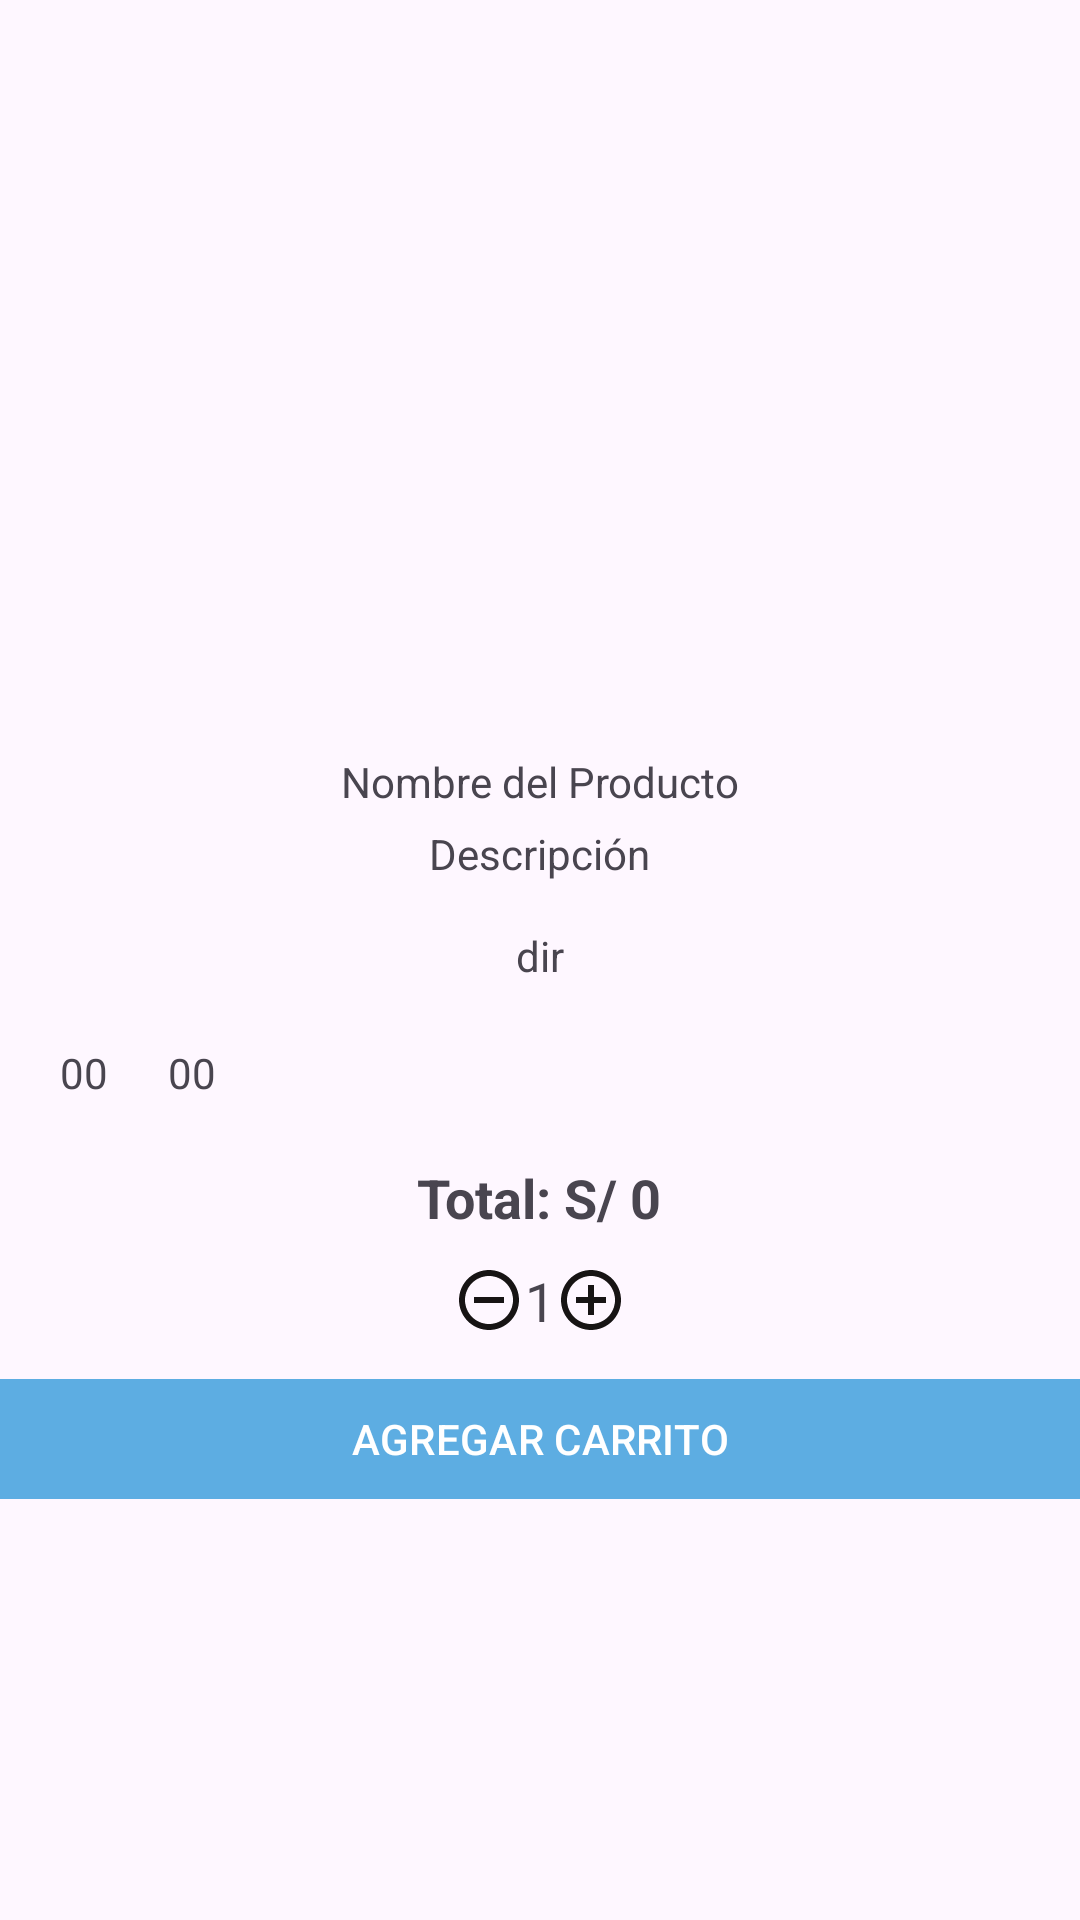

Where to tap for icons on this 1080x1920 app screen, as [x,y]:
mas: [591,1300]
menos: [489,1300]
